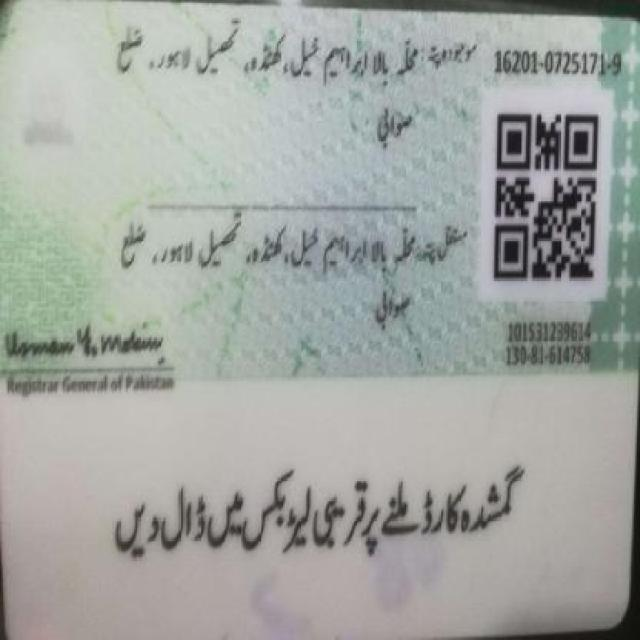Back: (4, 4, 634, 630)
